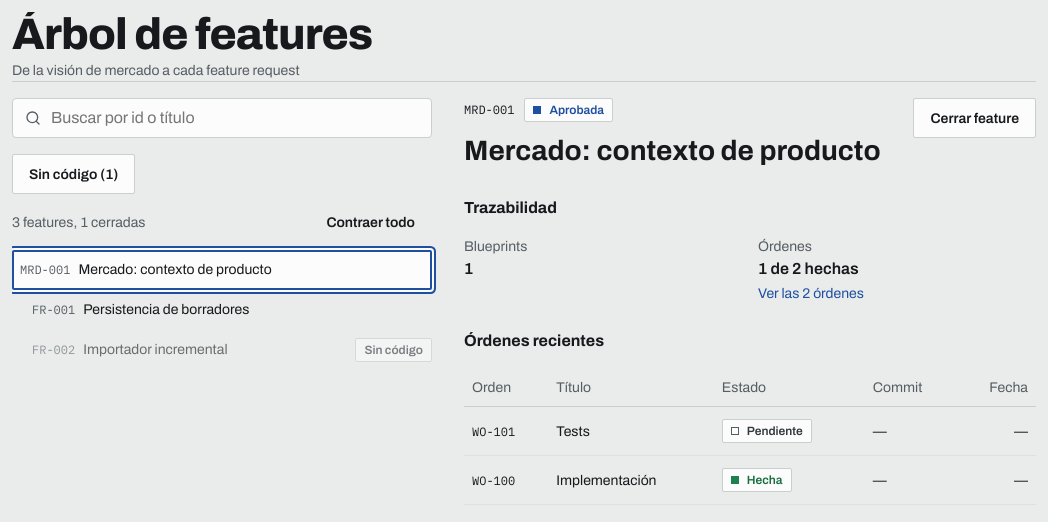
Test: ProjectGraph (árbol de features) › the "Sin código" chip filters the tree to the orphan features and announces the count (SDD-079)
Expected: the text "Sin código" is shown, [355,338,432,362]
Step 1. Click the button "Sin código (1)" → coordinates (74, 174), box [12,154,135,194]
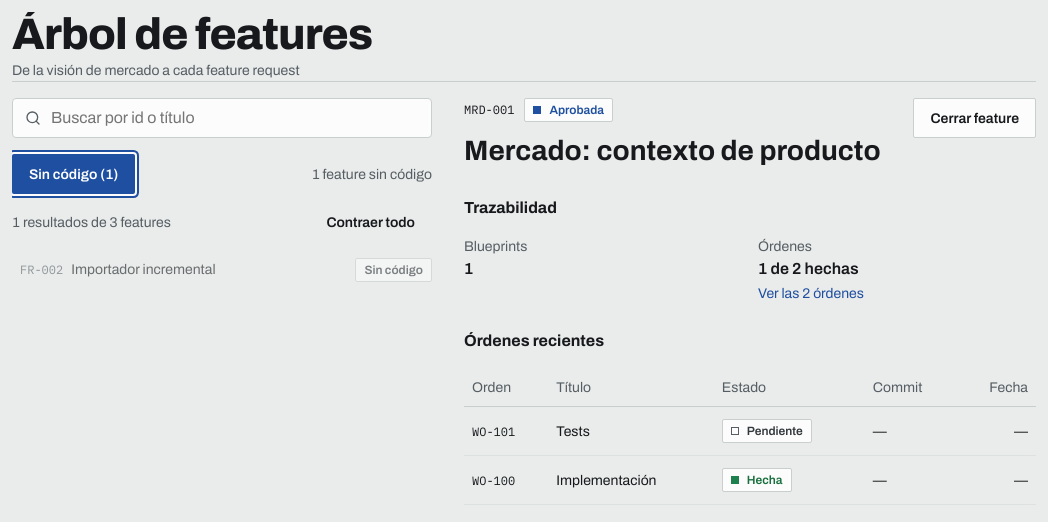
Result: the text "FR-001" is gone
Result: the number of list items is 1 at [12,250,432,290]
Result: the message reads "1 feature sin código" at [312,164,432,184]
